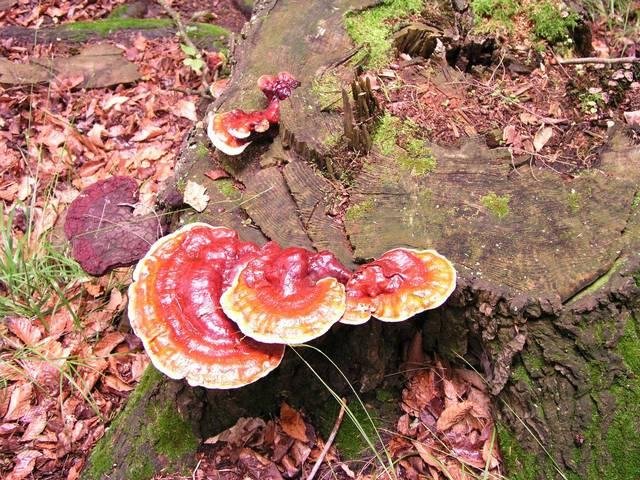poisonous_mushroom: (126, 220, 457, 390), (339, 245, 457, 325), (202, 65, 295, 162)
